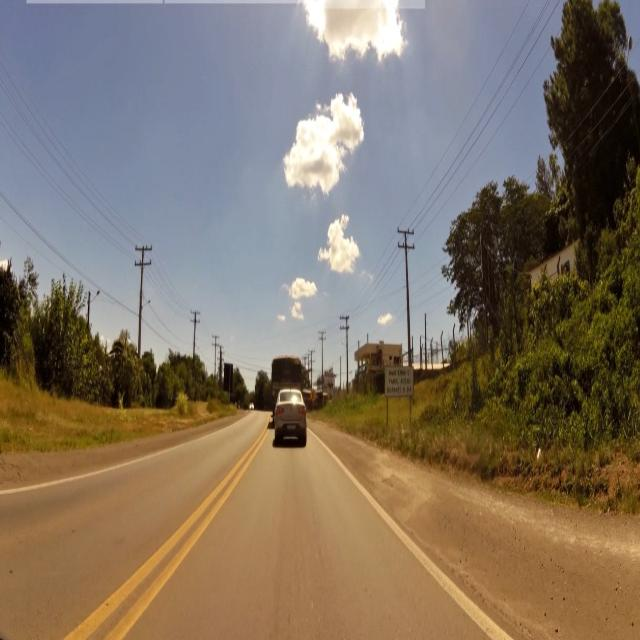E-5: (387, 366, 413, 396)
